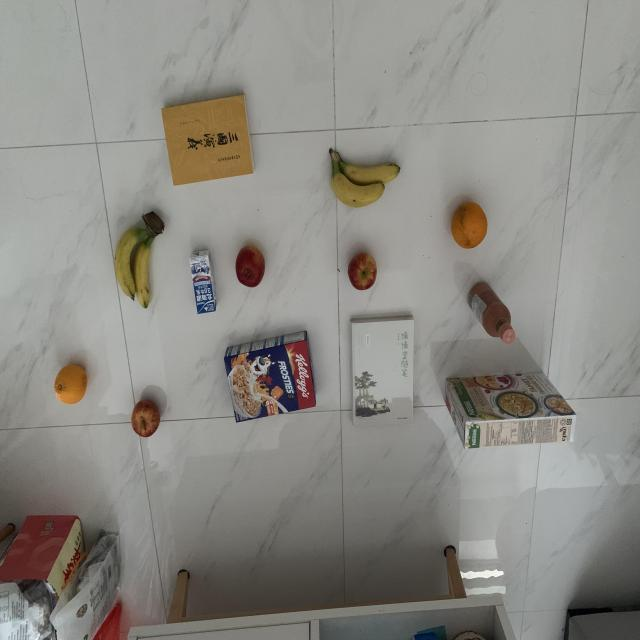apple: (233, 242, 267, 290), (344, 250, 381, 293), (130, 397, 162, 439)
banana: (113, 210, 165, 312), (324, 144, 404, 210)
orange: (447, 199, 490, 252), (52, 361, 91, 408)
